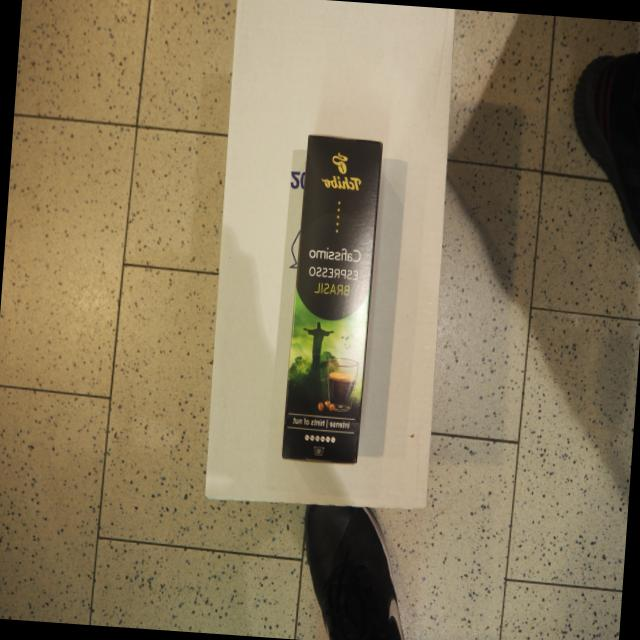Simo Es Brazil: (278, 129, 383, 468)
